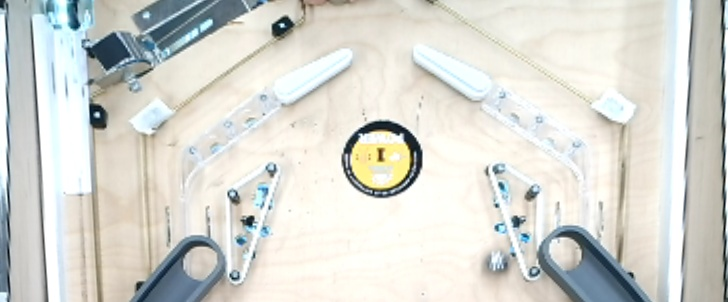ball: (476, 245, 518, 283)
flipper-left: (405, 41, 500, 105)
flipper-right: (271, 44, 356, 110)
